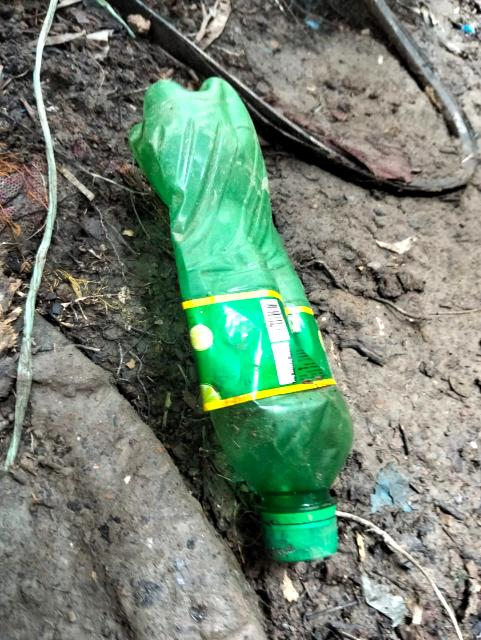bottle: (86, 52, 380, 588)
